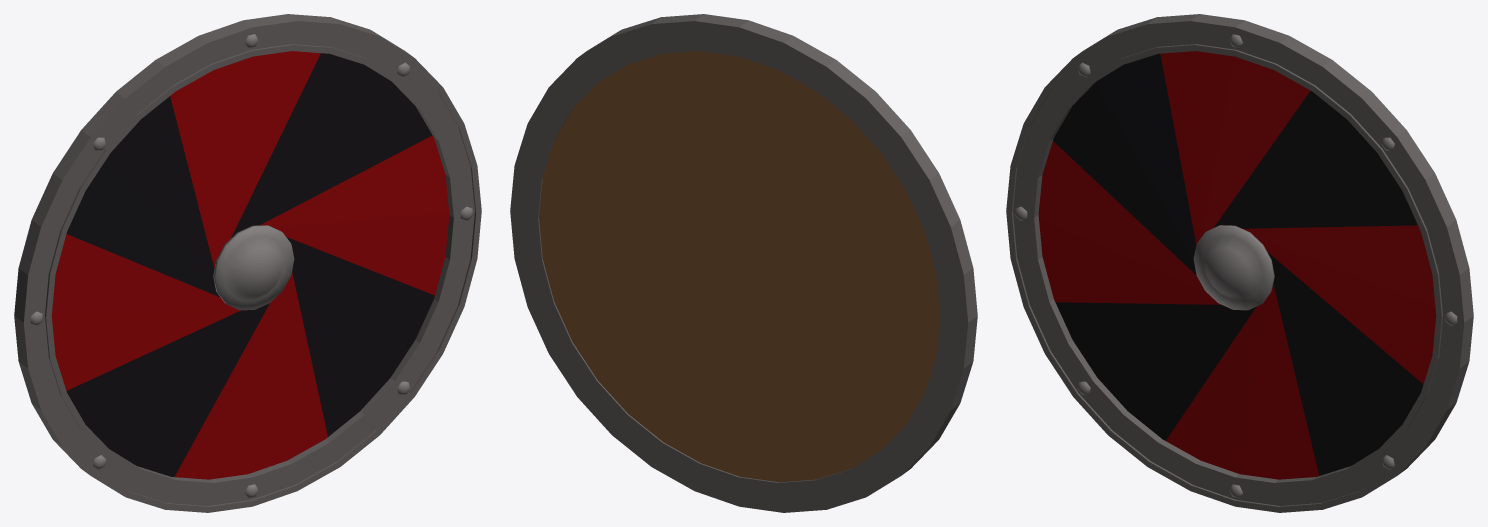
3 views of the same model, side by side, from view 1: azimuth 30°, elevation 25°; view 2: azimuth 150°, elevation 25°; view 3: azimuth 330°, elevation 25° (orthographic).
Visible parts, largest first — view 1: VikingShield; view 2: VikingShield; view 3: VikingShield.
Part boxes in pixels (x1=…): VikingShield: x1=14, y1=14, x2=481, y2=512; VikingShield: x1=510, y1=14, x2=977, y2=512; VikingShield: x1=1006, y1=14, x2=1473, y2=512.
Size of what is drawn, in the model's own units: 0.698 by 0.698 by 0.052.
1 material, 1 textured.
